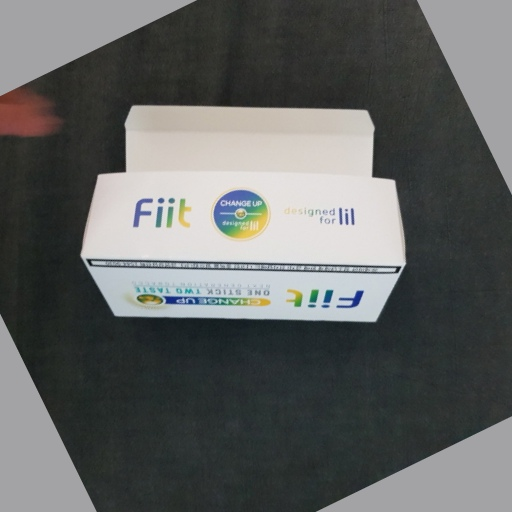Paper_0: (77, 101, 406, 336)
